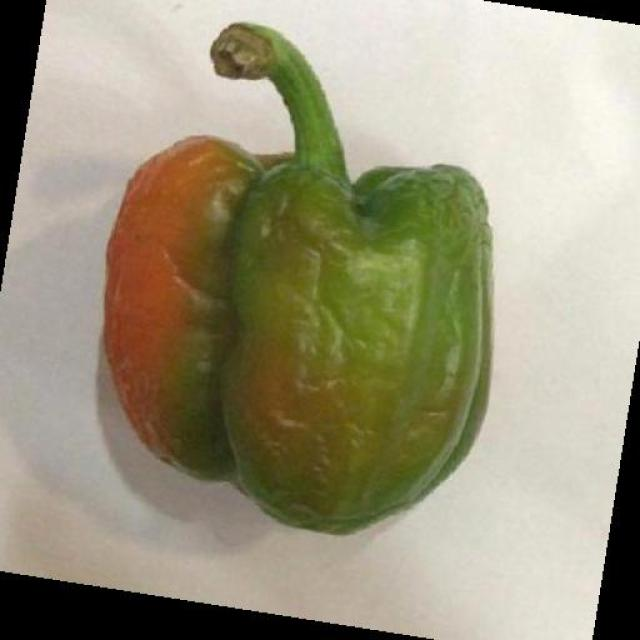Stale_Capsicum: (110, 57, 493, 525)
